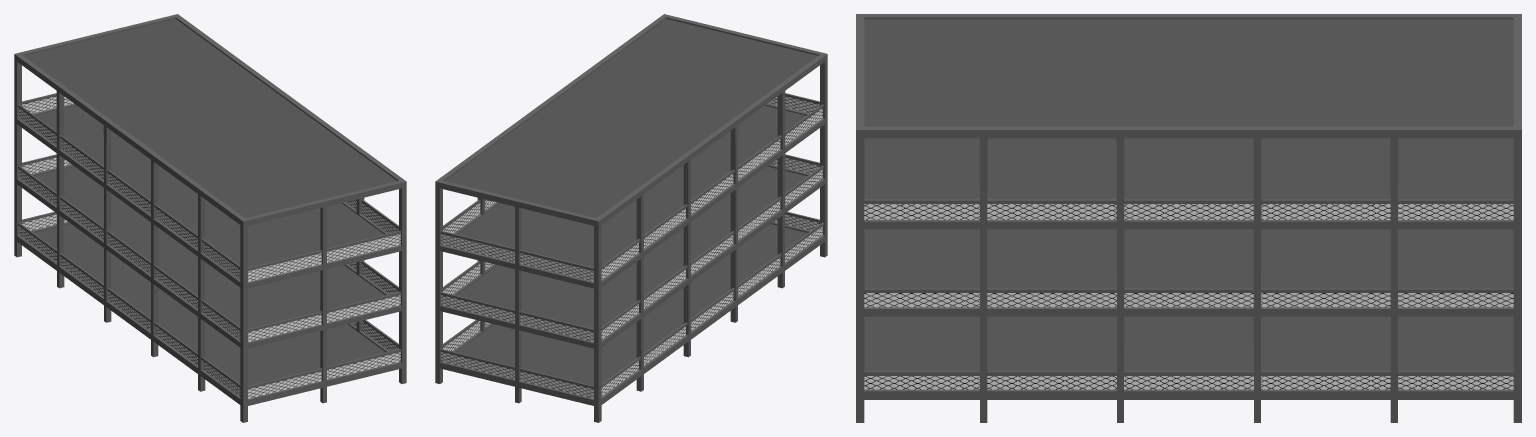
File: Bags storage.fbx
The picture shows the model from 3 angles, left to right: view 1: azimuth 30°, elevation 25°; view 2: azimuth 150°, elevation 25°; view 3: azimuth 270°, elevation 25°; orthographic projection. The views are drawn at different scales.
Visible parts, largest first — view 1: Cube.010, Cube.012, Plane.001, Plane.004; view 2: Cube.010, Cube.012, Plane.001, Plane.004; view 3: Cube.010, Cube.012, Plane.001.
Part boxes in pixels (left/top/right/bottom): Cube.010: left=24, top=19, right=396, bottom=385; Cube.012: left=14, top=14, right=406, bottom=422; Plane.001: left=19, top=108, right=398, bottom=396; Plane.004: left=22, top=96, right=400, bottom=398; Cube.010: left=445, top=19, right=817, bottom=385; Cube.012: left=435, top=14, right=827, bottom=422; Plane.001: left=443, top=108, right=822, bottom=396; Plane.004: left=441, top=96, right=819, bottom=398; Cube.010: left=864, top=19, right=1513, bottom=371; Cube.012: left=856, top=14, right=1521, bottom=422; Plane.001: left=864, top=204, right=1513, bottom=389.
Size of the model in its own units: 412 by 485 by 1000.
